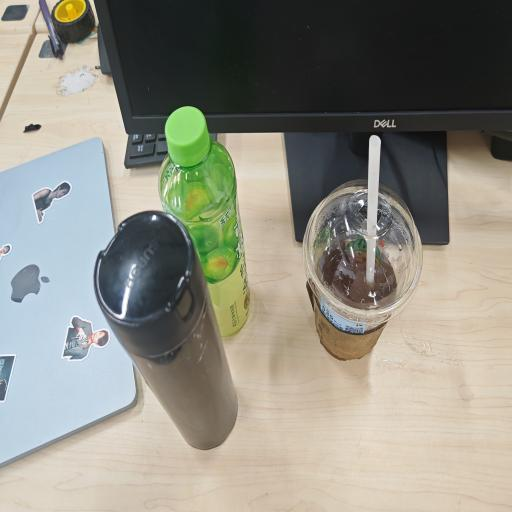laptop: (0, 137, 139, 468)
